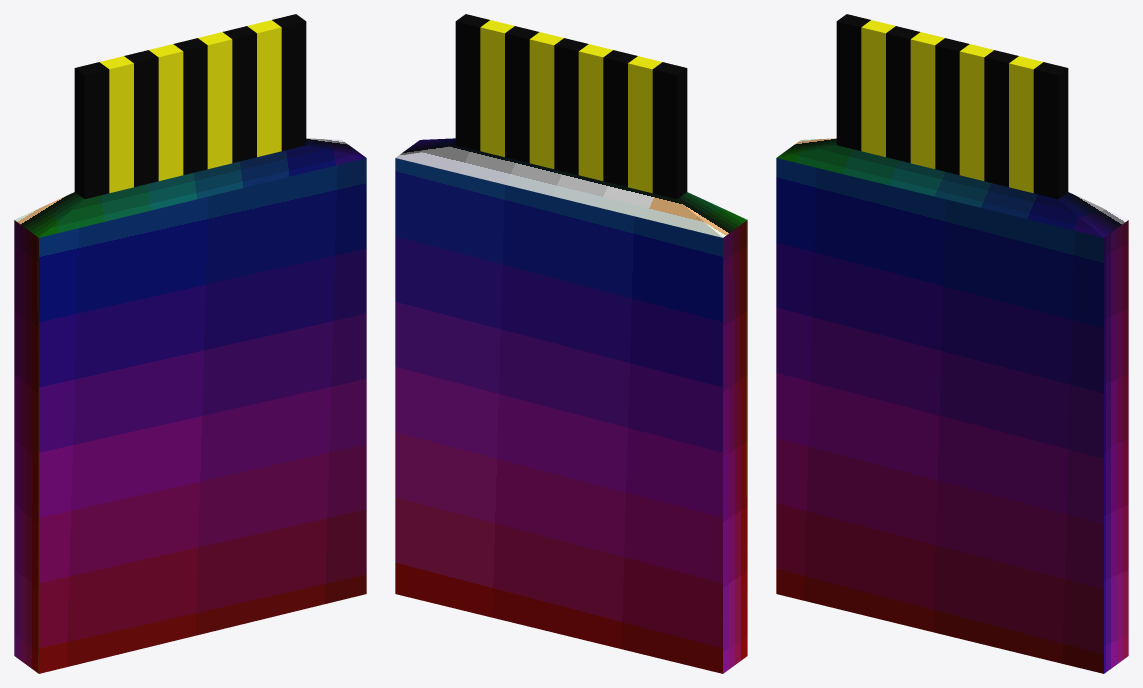
The model's file is keycard.fbx.
The picture shows the model from 3 angles, left to right: view 1: azimuth 30°, elevation 25°; view 2: azimuth 150°, elevation 25°; view 3: azimuth 330°, elevation 25°; orthographic projection.
Parts seen in each view (by area): view 1: Cube; view 2: Cube; view 3: Cube.
Boxes of the visible parts, box(x1,y1,x2,y2) form: Cube: box(14, 14, 366, 673); Cube: box(395, 14, 747, 673); Cube: box(776, 14, 1128, 673).
Bounding box in the file's own units: 123 × 209 × 16.07.
